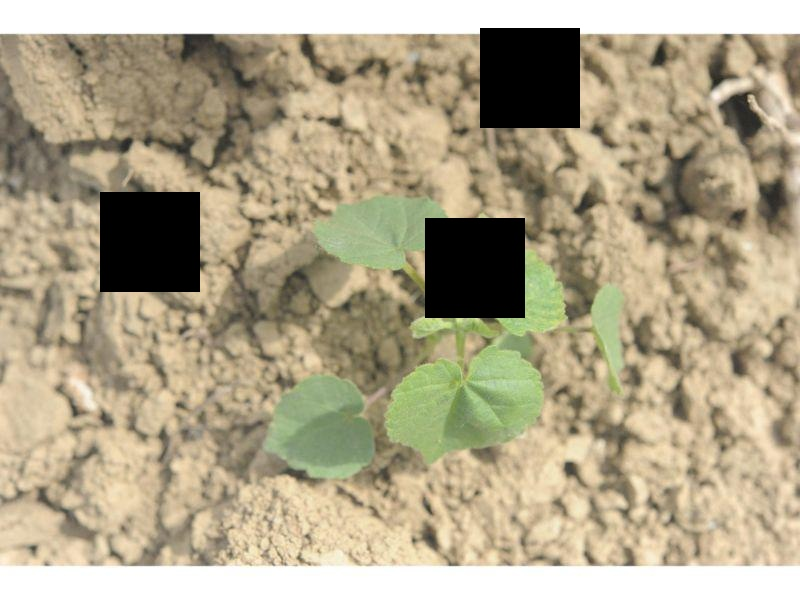velvet: (260, 194, 624, 477)
